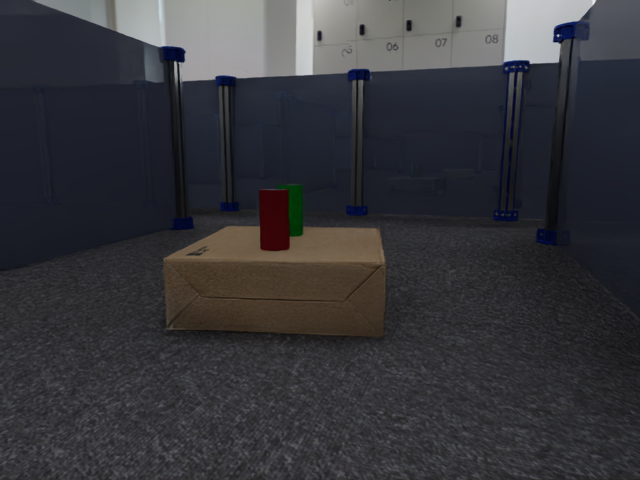puck_green_cyl: (278, 184, 302, 236)
puck_red_cyl: (259, 189, 289, 250)
